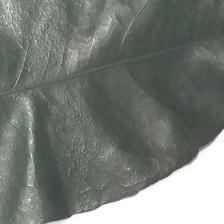healthy: (5, 1, 200, 224)
